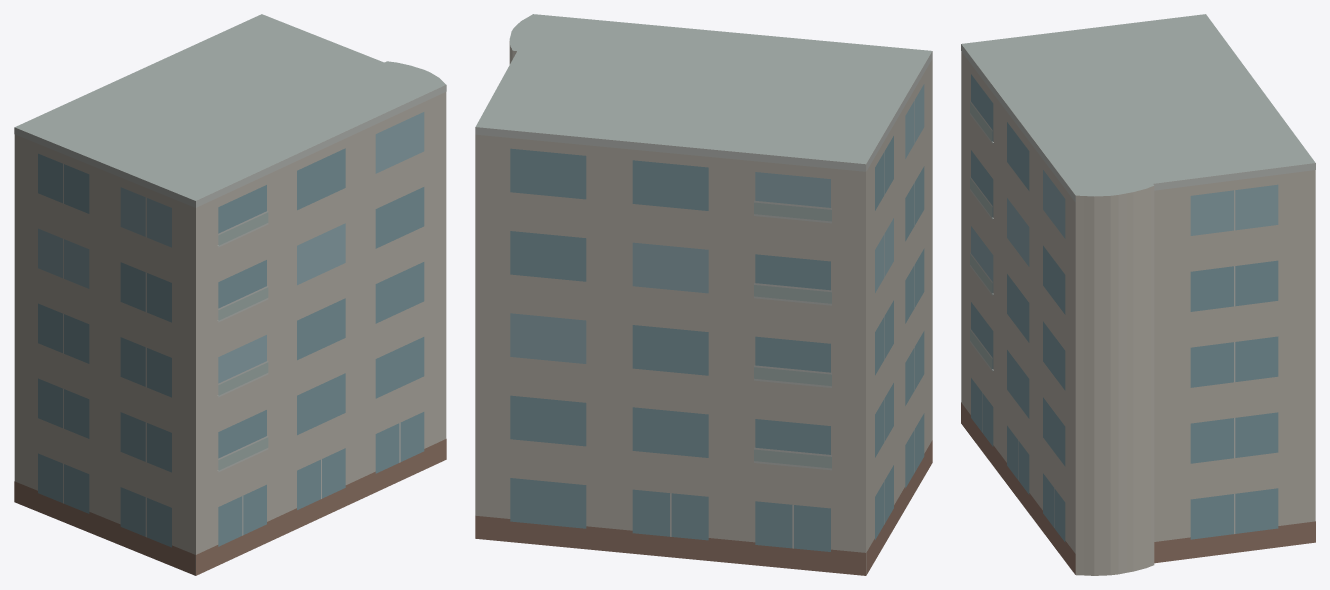
Rendered from survey-upis-32594257.glb.
The picture shows the model from 3 angles, left to right: view 1: azimuth 30°, elevation 25°; view 2: azimuth 150°, elevation 25°; view 3: azimuth 270°, elevation 25°; orthographic projection. The views are drawn at different scales.
Parts seen in each view (by area): view 1: survey-upis-32594257.tmp; view 2: survey-upis-32594257.tmp; view 3: survey-upis-32594257.tmp.
Boxes of the visible parts, box(x1,y1,x2,y2) form: survey-upis-32594257.tmp: box(14, 14, 446, 575); survey-upis-32594257.tmp: box(475, 14, 932, 575); survey-upis-32594257.tmp: box(961, 14, 1315, 575).
Size of the model in its own units: 13.67 by 13.25 by 11.23.
